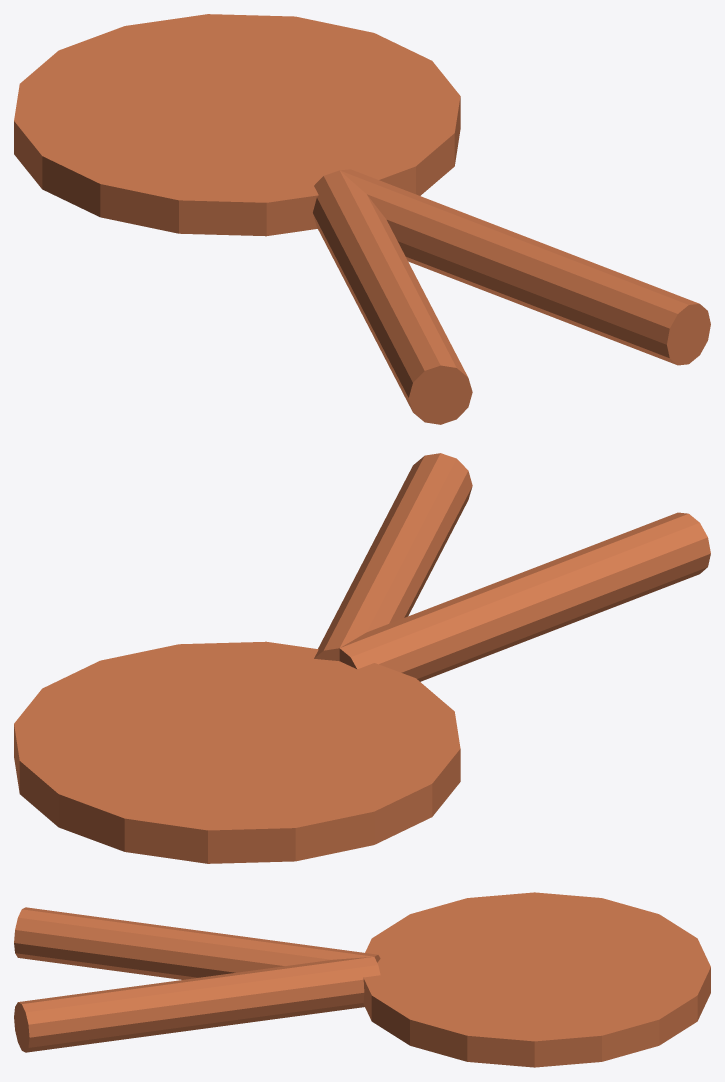
The picture shows the model from 3 angles, top to bottom: view 1: azimuth 30°, elevation 25°; view 2: azimuth 150°, elevation 25°; view 3: azimuth 270°, elevation 25°; orthographic projection. The views are drawn at different scales.
Visible parts, largest first — view 1: geometry_0; view 2: geometry_0; view 3: geometry_0.
Boxes of the visible parts, x1,y1,x2,y2 form: geometry_0: [14, 14, 710, 424]; geometry_0: [14, 453, 710, 863]; geometry_0: [14, 892, 710, 1067].
Size of the model in its own units: 0.11 by 0.02 by 0.2174.
